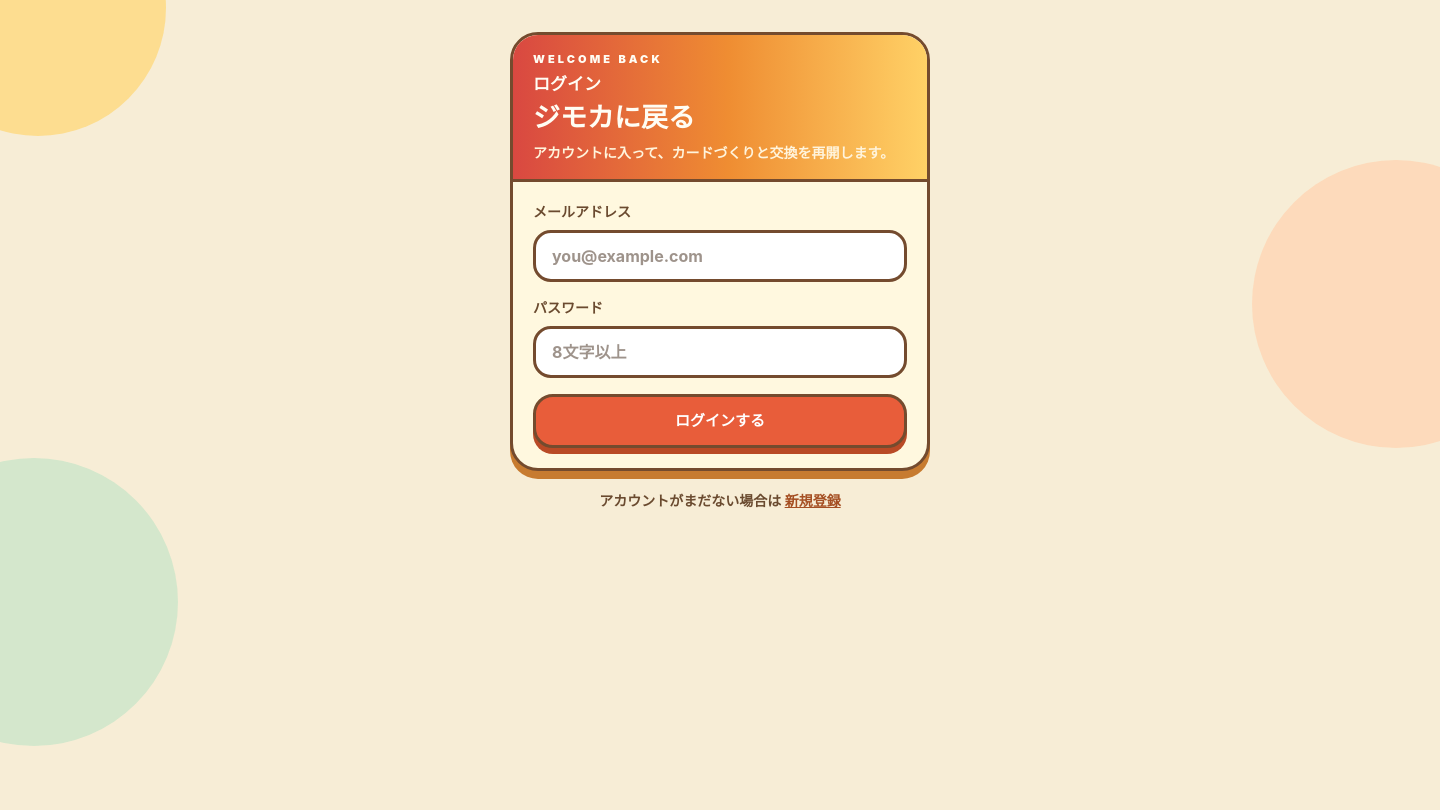
Test: LoginPage › ログイン失敗時にエラーメッセージを表示する
Step 1. Type "user@example.com" into the field with placeholder "you@example.com" → (720, 256), box x1=533 y1=230 x2=907 y2=282
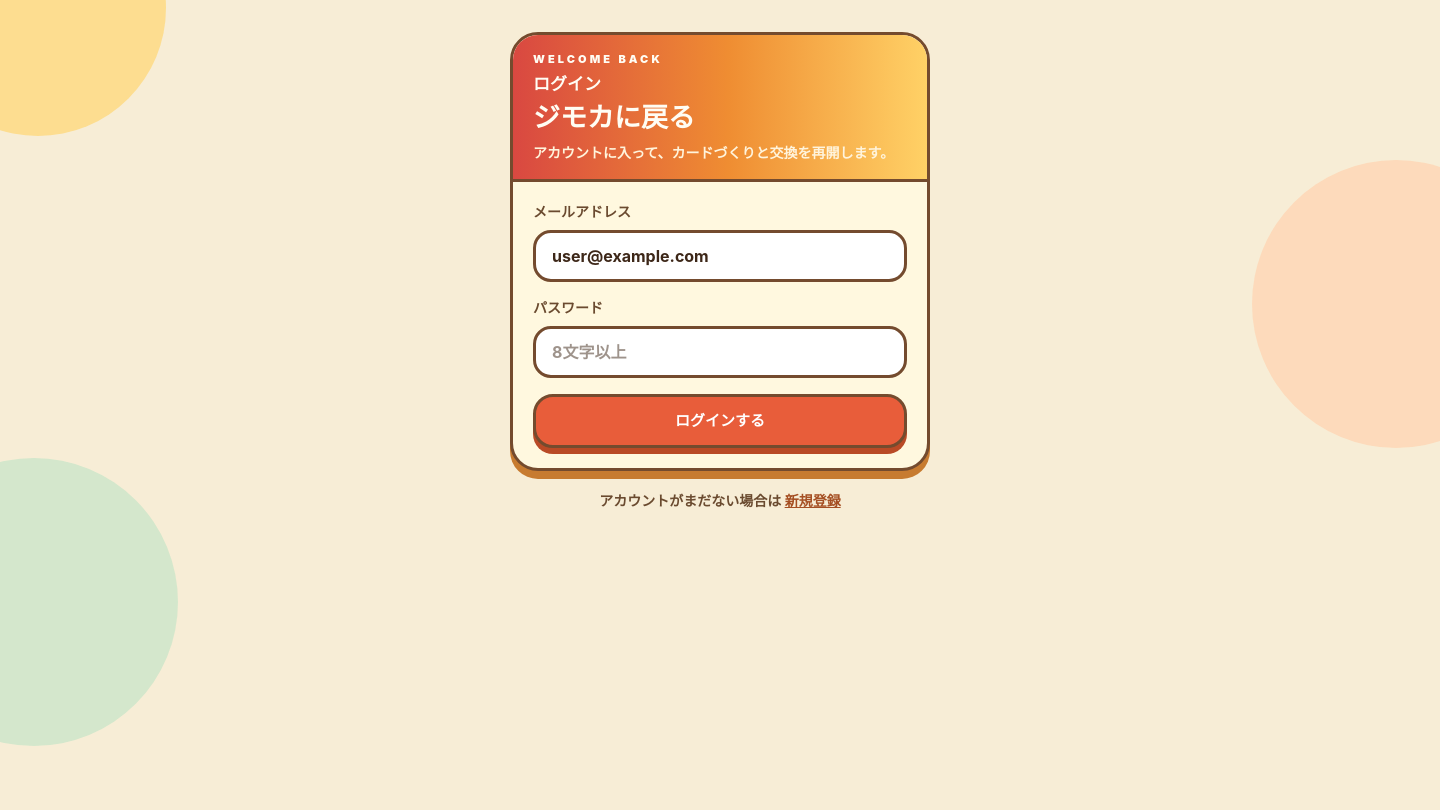
Step 2. Type "password123" into the password field with placeholder "8文字以上" → (720, 352), box x1=533 y1=326 x2=907 y2=378
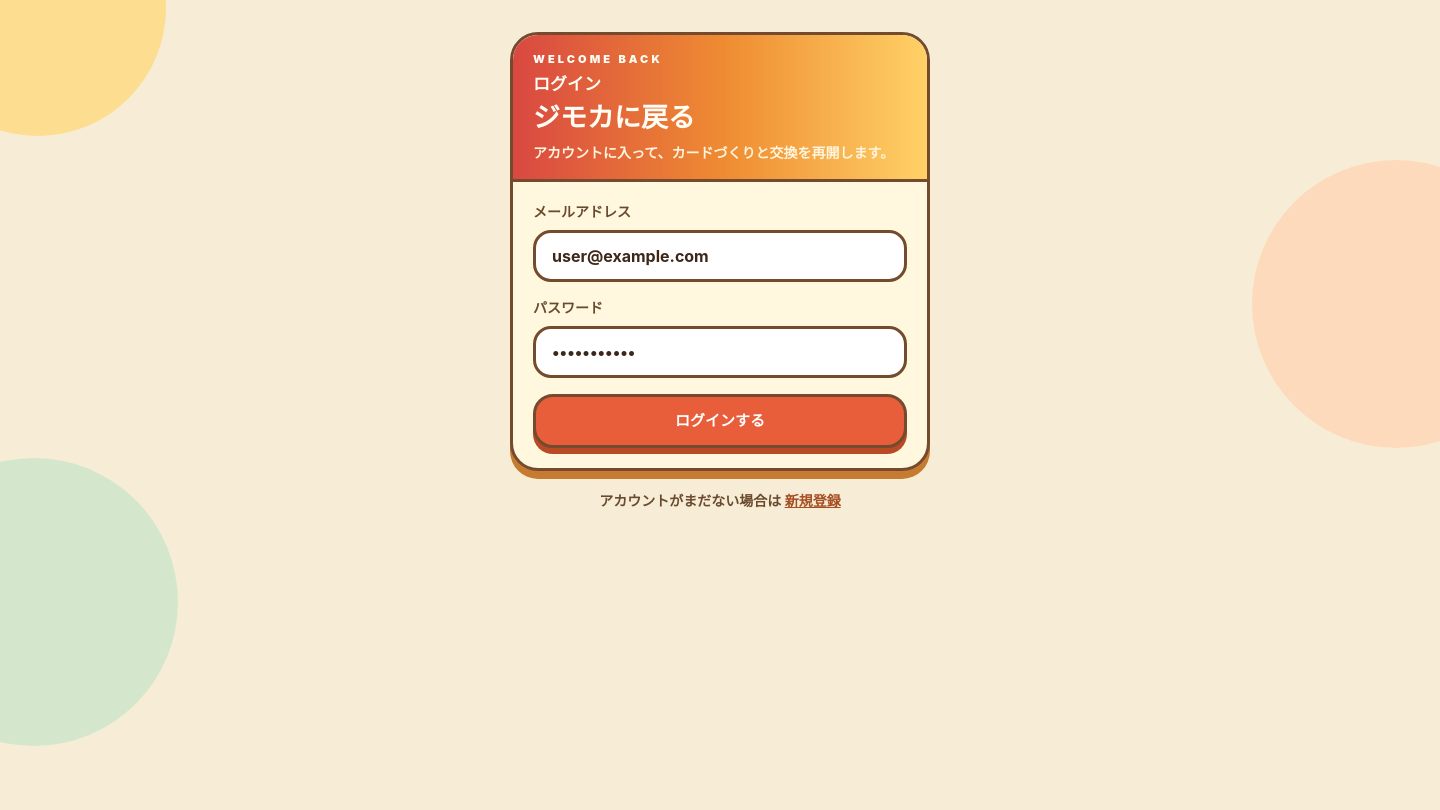
Step 3. Click the button "ログインする" → (720, 421), box x1=533 y1=394 x2=907 y2=448
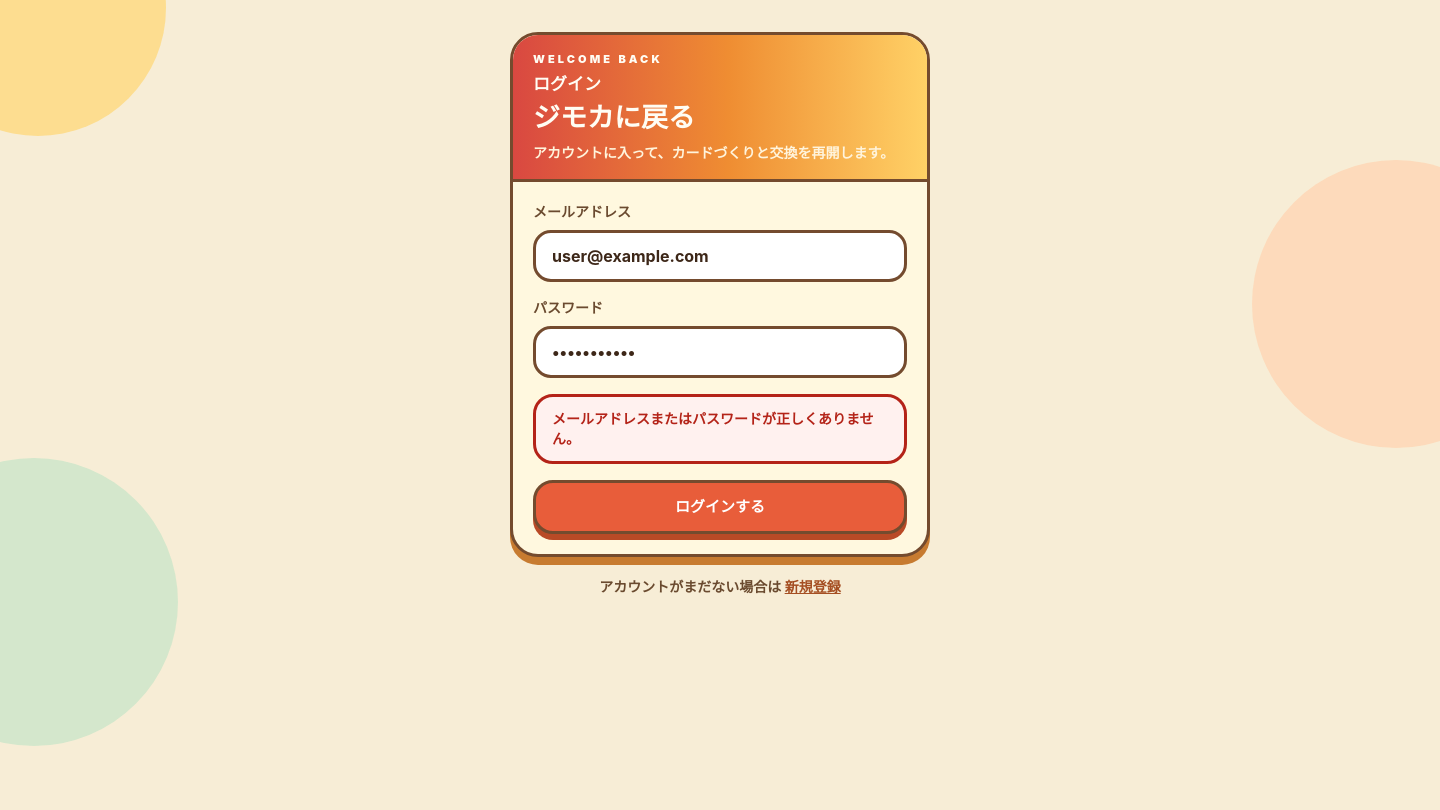
Check: the text "メールアドレスまたはパスワードが正しくありません。" is shown, box x1=533 y1=394 x2=907 y2=464
